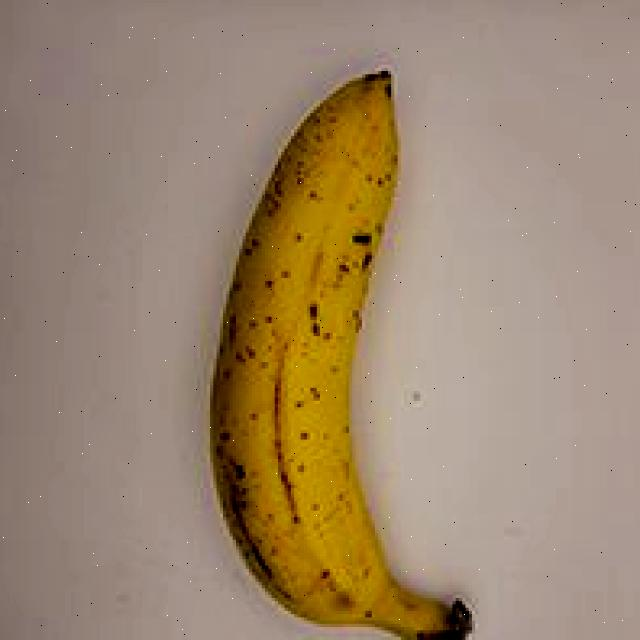Overripe: (177, 35, 530, 640)
